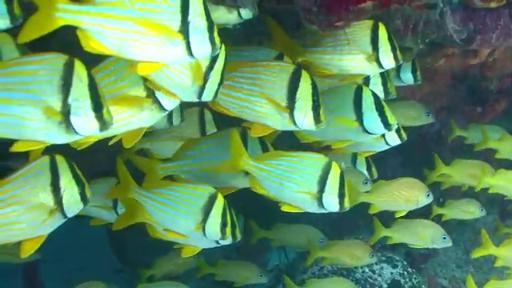Fish: (17, 0, 220, 71), (110, 159, 240, 256), (464, 0, 507, 288), (0, 53, 112, 151), (72, 58, 180, 149), (0, 155, 90, 258), (209, 60, 323, 136), (267, 18, 403, 76), (128, 128, 249, 190), (244, 151, 354, 212), (295, 85, 397, 145), (71, 89, 168, 149), (140, 45, 226, 103), (92, 57, 180, 111), (132, 108, 218, 159), (146, 212, 241, 257), (351, 177, 433, 217), (369, 217, 452, 248), (248, 221, 327, 251), (331, 125, 407, 156), (426, 155, 495, 187), (315, 72, 396, 99), (79, 177, 124, 225), (197, 260, 268, 287), (307, 240, 377, 267), (140, 250, 197, 282), (321, 149, 377, 179), (471, 229, 511, 267), (448, 120, 507, 143), (387, 100, 435, 127), (208, 2, 258, 27), (432, 199, 486, 221), (227, 46, 291, 64), (474, 130, 511, 159), (360, 72, 396, 100), (148, 104, 183, 130), (388, 59, 421, 86), (0, 243, 41, 263), (0, 32, 28, 61), (284, 276, 357, 287), (343, 167, 372, 191), (0, 0, 23, 30), (137, 281, 188, 287), (75, 280, 117, 287), (496, 219, 511, 235), (466, 275, 477, 287)
